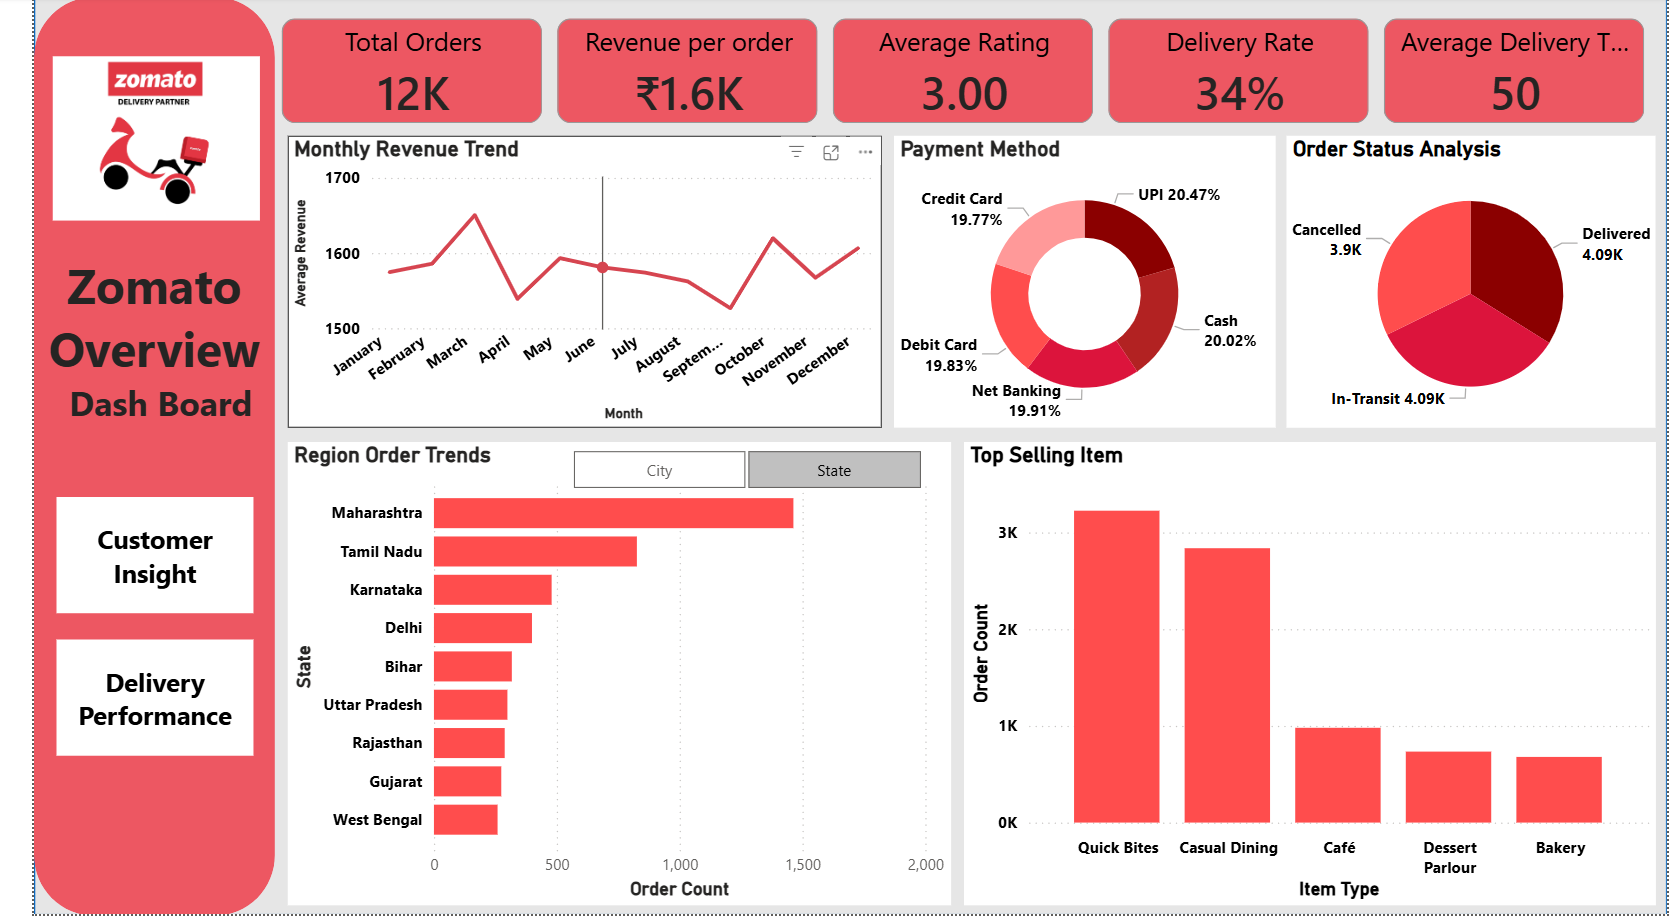

This screenshot's page, from the dashboard's own definition file:
{"tool":"powerbi","page":{"name":"Overview","canvas":[1280,720],"ordinal":0},"visuals":[{"type":"shape","box":[0,0,1280.2,719.8],"z":0},{"type":"shape","box":[0,0,188.9,720.2],"z":1000},{"type":"cardVisual","fields":{"Data":["Zomata_delivery_data.Total Orders","Zomata_delivery_data.Average Order amount","Zomata_delivery_data.Average Rating","Zomata_delivery_data.Delivery %","Zomata_delivery_data.Average Delivery Time"]},"box":[177.1,0,1103.3,116.3],"z":2000},{"type":"lineChart","title":"Monthly Revenue Trend","fields":{"Y":["Avg(Zomata_delivery_data.Order Amount (INR))"],"Category":["Zomata_delivery_data.Order Date.Variation.Date Hierarchy.Month"]},"box":[198.9,108.9,465.6,228.9],"z":3000},{"type":"donutChart","title":"Payment Method","fields":{"Category":["Zomata_delivery_data.Payment Method"],"Y":["CountNonNull(Zomata_delivery_data.Order ID)"]},"box":[673.8,108.4,299.1,229.2],"z":4000},{"type":"clusteredBarChart","title":"Region Order Trends","fields":{"Category":["Zomata_delivery_data.state"],"Y":["CountNonNull(Zomata_delivery_data.Order ID)"]},"box":[198.9,348.9,520,363.3],"z":5000},{"type":"slicer","fields":{"Values":["Region.Region"]},"box":[396.7,348.9,322.2,43.3],"z":6000},{"type":"pieChart","title":"Order Status Analysis","fields":{"Category":["Zomata_delivery_data.Order Status"],"Y":["CountNonNull(Zomata_delivery_data.Order ID)"]},"box":[982.2,108.9,288.9,228.9],"z":7000},{"type":"columnChart","title":"Top Selling Item","fields":{"Category":["Zomata_delivery_data.type"],"Y":["CountNonNull(Zomata_delivery_data.Order ID)"]},"box":[728.9,348.9,542.2,363.3],"z":8000},{"type":"image","box":[14.4,26.7,162.2,168.9],"z":9000},{"type":"textbox","box":[0,195.6,198.9,204.4],"z":10000},{"type":"actionButton","title":"Customer Insight","box":[17.8,392.2,154.4,91.1],"z":11000},{"type":"actionButton","title":"Customer Insight","box":[17.8,503.3,154.4,91.1],"z":12000}]}

Visuals, with their boxes in screenshot pixels (x1, y1, x2, y2), scaled from the page's 1280x720 canvas onto the 1670x917 screenshot:
shape: bbox(0, 0, 1669, 916)
shape: bbox(0, 0, 246, 916)
cardVisual - Zomata_delivery_data.Total Orders x Zomata_delivery_data.Average Order amount: bbox(231, 0, 1669, 148)
"Monthly Revenue Trend" lineChart: bbox(260, 139, 867, 430)
"Payment Method" donutChart: bbox(879, 138, 1269, 430)
"Region Order Trends" clusteredBarChart: bbox(260, 444, 938, 907)
slicer - Region.Region: bbox(518, 444, 938, 500)
"Order Status Analysis" pieChart: bbox(1281, 139, 1658, 430)
"Top Selling Item" columnChart: bbox(951, 444, 1658, 907)
image: bbox(19, 34, 230, 249)
textbox: bbox(0, 249, 260, 509)
"Customer Insight" actionButton: bbox(23, 500, 225, 616)
"Customer Insight" actionButton: bbox(23, 641, 225, 757)
